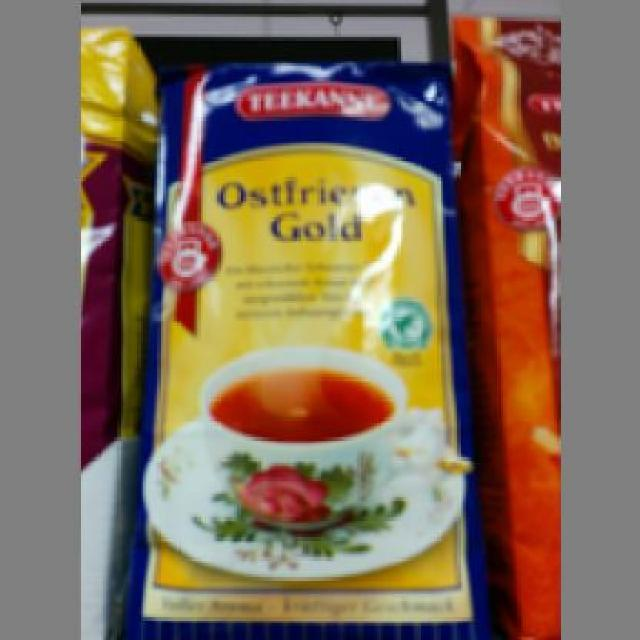Tea: (122, 55, 492, 634)
